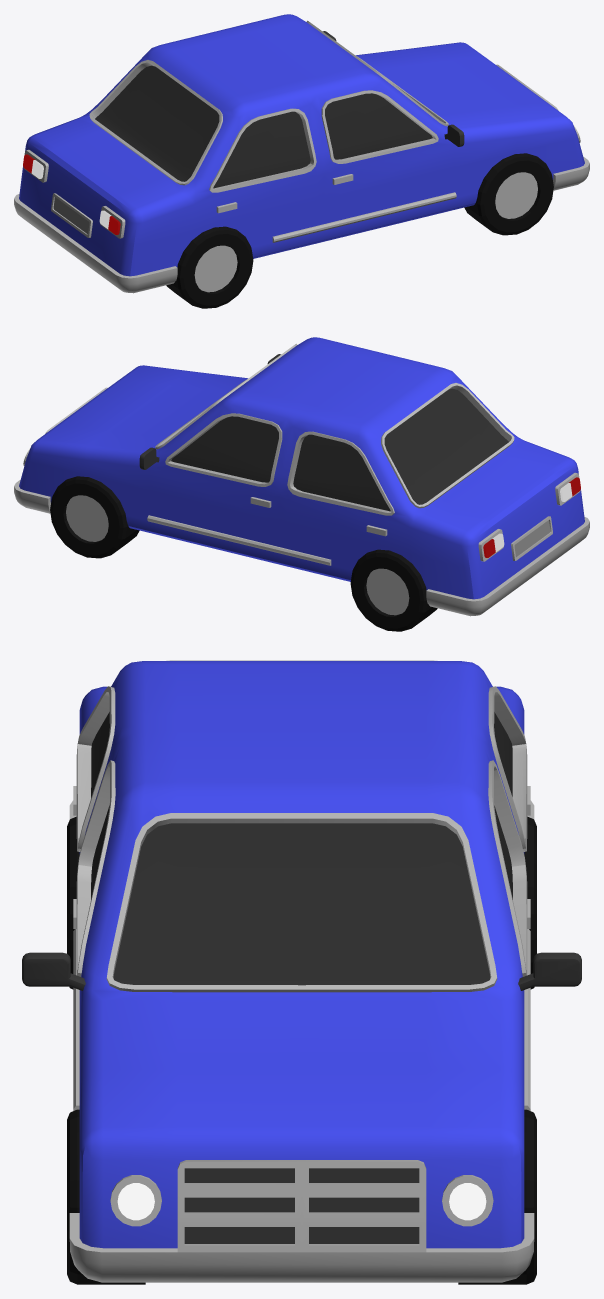
File: BlueCar.glb
3 renders of one model, top to bottom at view 1: azimuth 30°, elevation 25°; view 2: azimuth 150°, elevation 25°; view 3: azimuth 270°, elevation 25°, orthographic. The views are drawn at different scales.
Visible parts, largest first — view 1: Car; view 2: Car; view 3: Car.
Part boxes in pixels (bbox=[...]): Car: bbox=[14, 14, 589, 308]; Car: bbox=[14, 337, 589, 631]; Car: bbox=[22, 660, 581, 1284].
Bounding box in the file's own units: 5.53 × 2.03 × 2.84.
